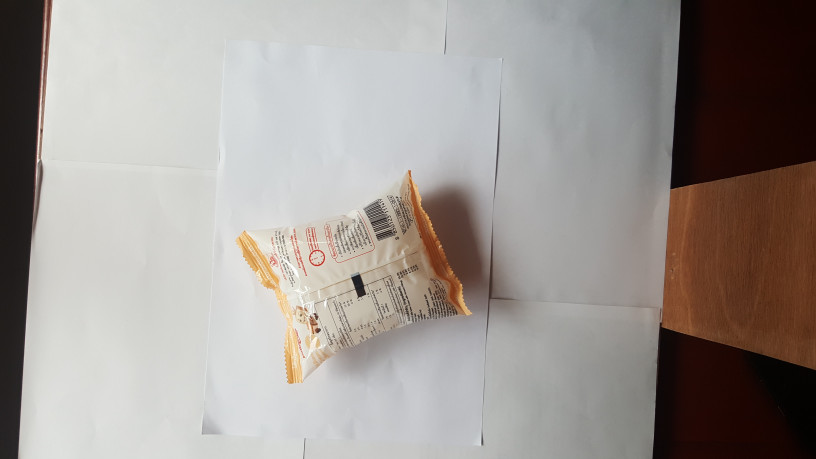farmhouse-sweetsandwich-almond: (235, 163, 478, 384)
